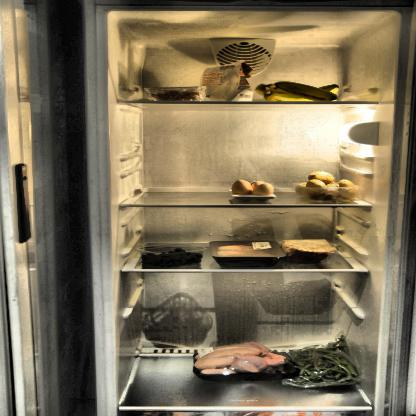banana: (254, 80, 345, 104)
blueberries: (142, 245, 205, 266)
chicken: (196, 340, 279, 383), (214, 240, 282, 266)
eggs: (230, 178, 276, 202)
green_beans: (283, 335, 362, 389)
potato: (294, 175, 358, 204)
shrimp: (151, 88, 205, 102)
